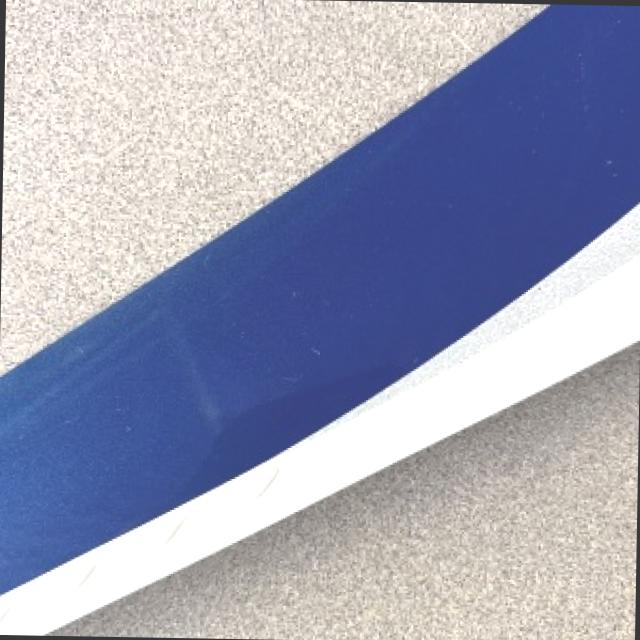healthy: (0, 6, 640, 633)
